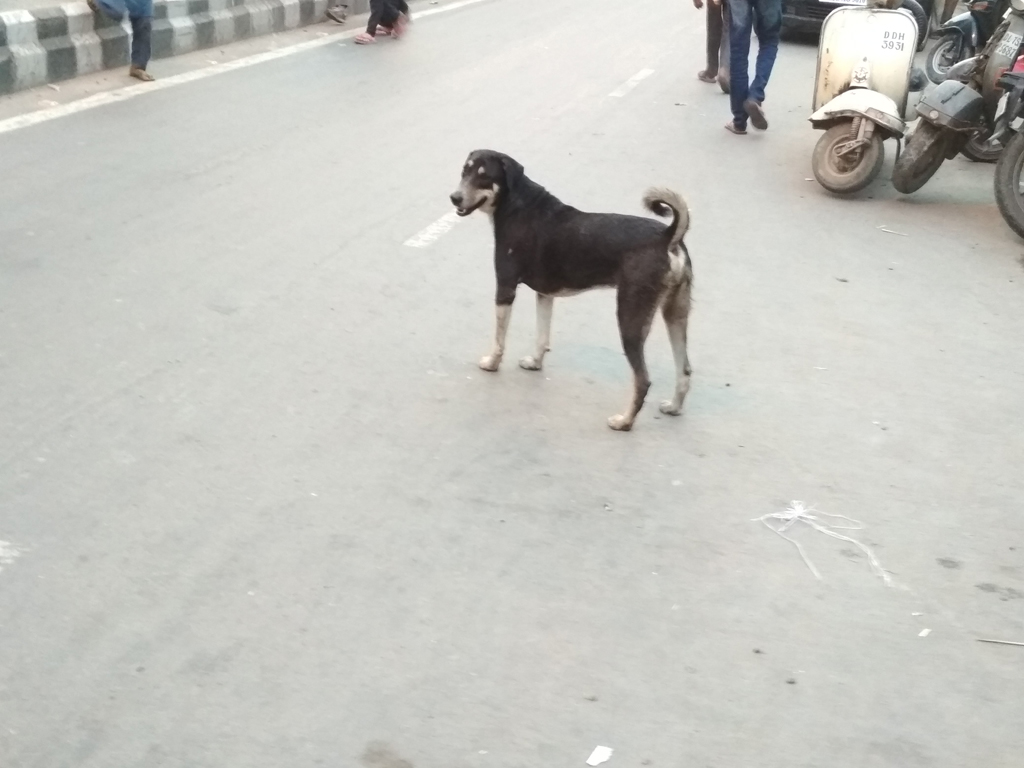dog: (447, 149, 694, 430)
